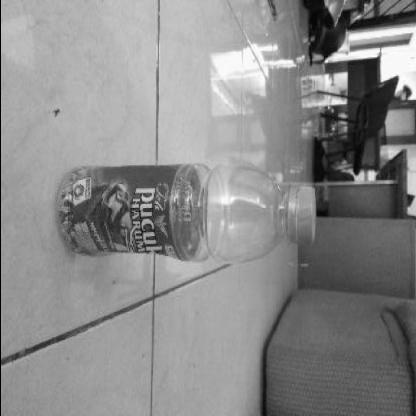plastic_bottles: (49, 156, 321, 270)
